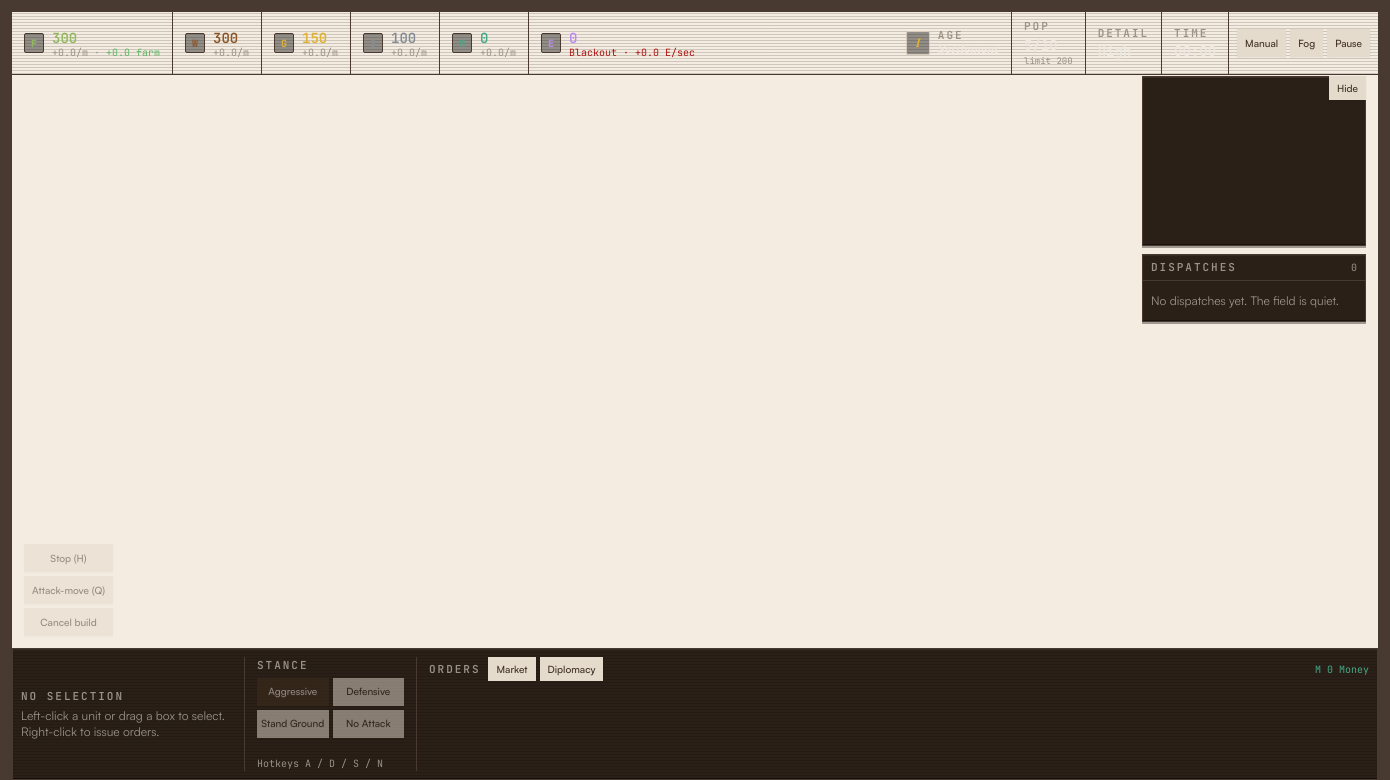
Test: enemy entity inspection › selects an enemy building for inspection with no actions
Press the mouse on the drawing named "Battlefield view" at [695, 396], box [12, 12, 1378, 779]
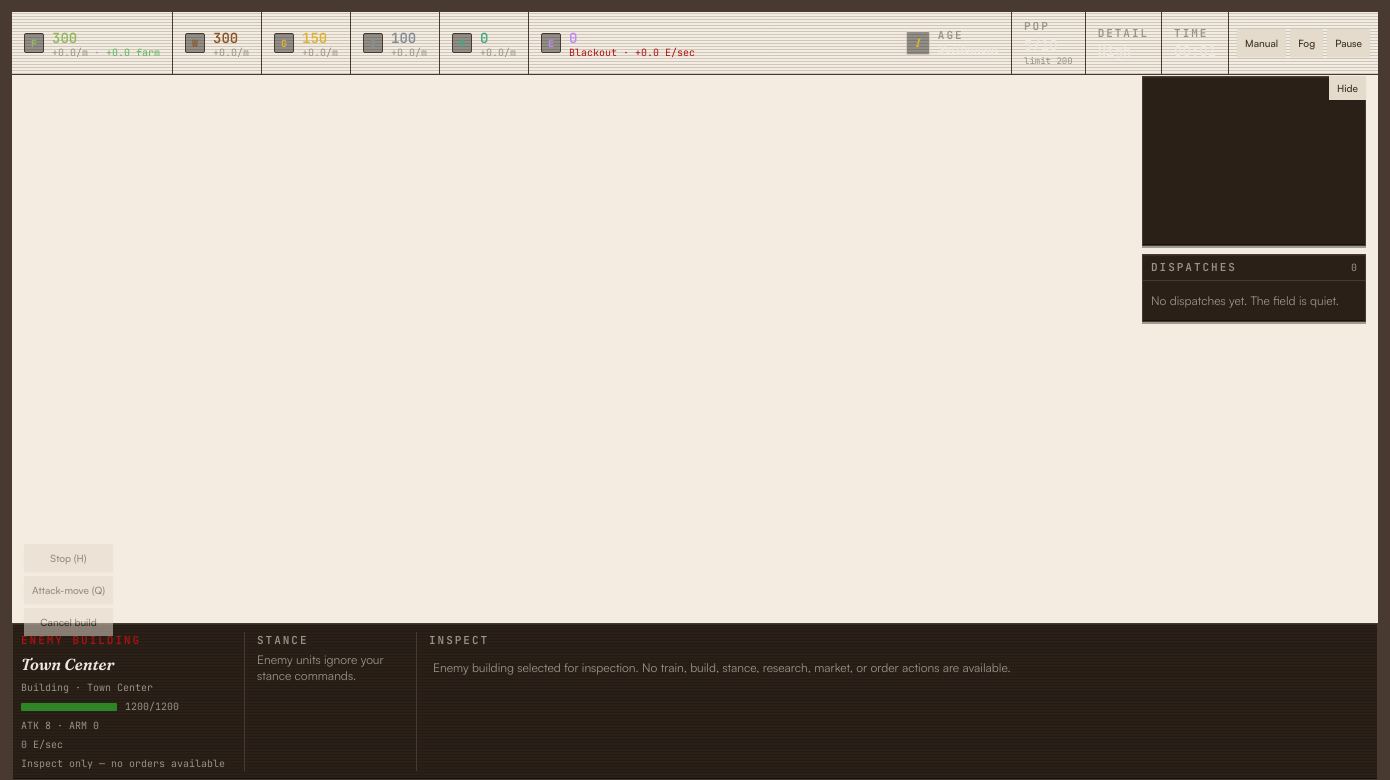
Expected: the text "Enemy Building" is shown, [21, 632, 141, 646]
Expected: the text "Town Center" is shown, [21, 654, 114, 674]
